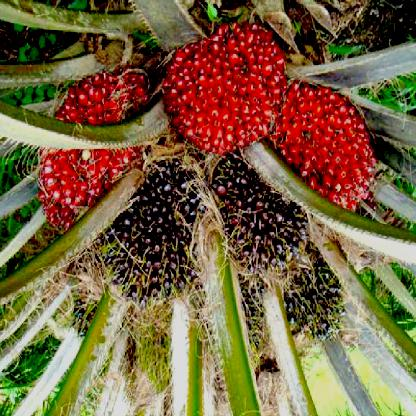1: (27, 63, 149, 213), (166, 19, 286, 158), (277, 82, 375, 216)
palm-oil: (99, 172, 203, 305), (211, 158, 303, 280), (285, 265, 347, 344), (242, 287, 271, 356)
